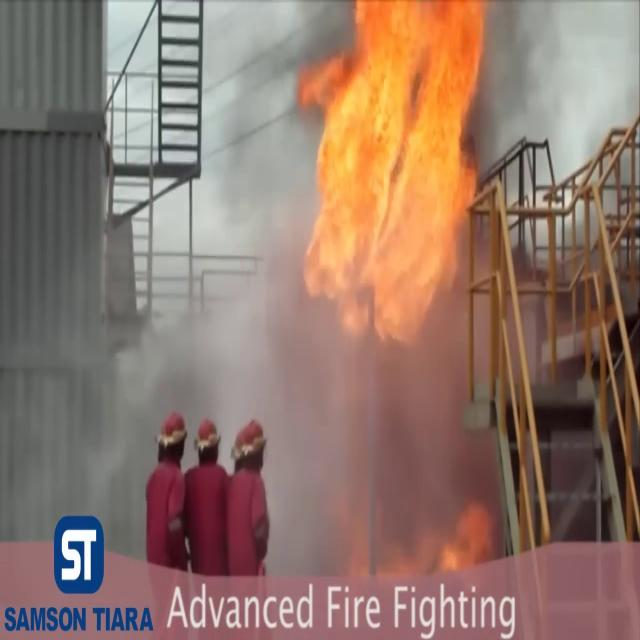Fire: (293, 1, 501, 326)
